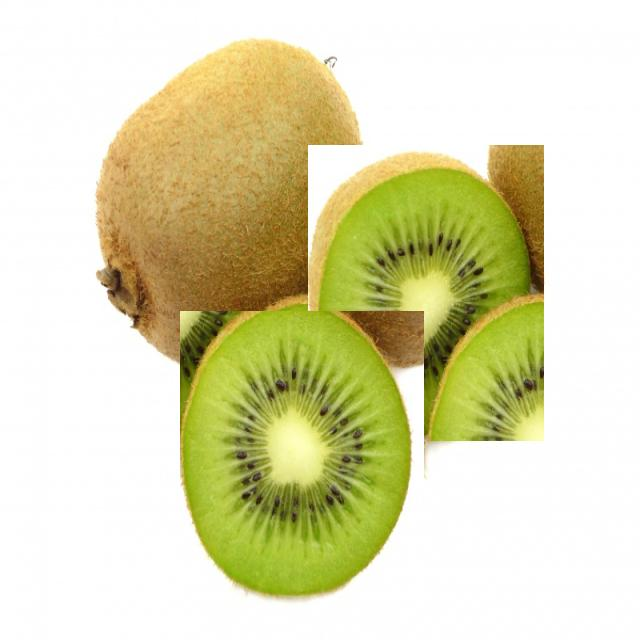Qiwi: (99, 36, 354, 353), (180, 311, 424, 608), (308, 146, 544, 442)
